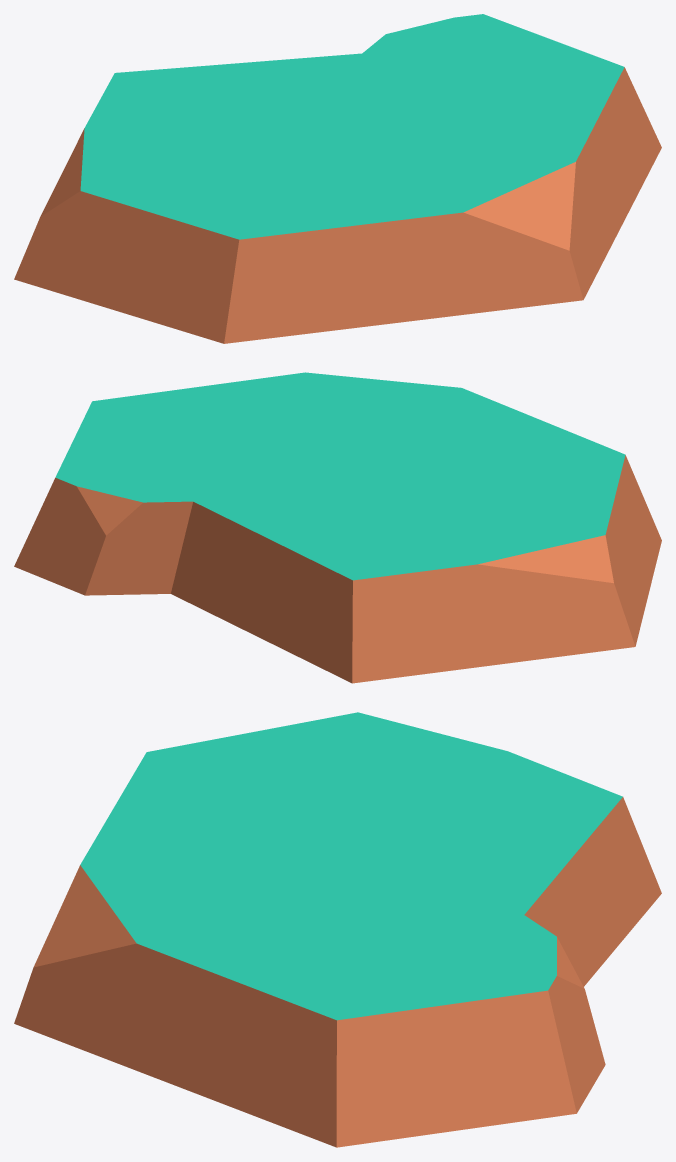
Rendered from rock_smallFlatC.glb.
The picture shows the model from 3 angles, top to bottom: view 1: azimuth 30°, elevation 25°; view 2: azimuth 150°, elevation 25°; view 3: azimuth 270°, elevation 25°; orthographic projection. The views are drawn at different scales.
Visible parts, largest first — view 1: rock_smallFlatC; view 2: rock_smallFlatC; view 3: rock_smallFlatC.
Part boxes in pixels (box(x1,y1,x2,y2)): rock_smallFlatC: box(14, 14, 661, 343); rock_smallFlatC: box(14, 372, 661, 683); rock_smallFlatC: box(14, 712, 661, 1147).
Size of the model in its own units: 0.4704 by 0.0649 by 0.3603.
